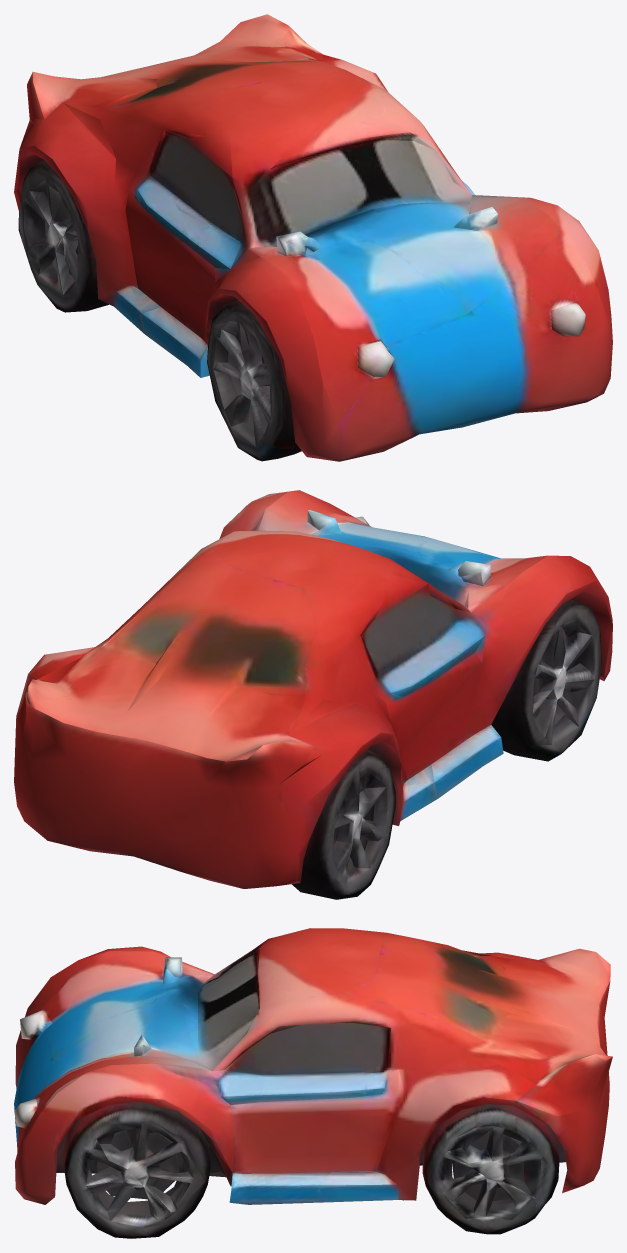
The model's file is m2ToyRaceCar.glb.
3 views of the same model, one above another, from view 1: azimuth 30°, elevation 25°; view 2: azimuth 150°, elevation 25°; view 3: azimuth 270°, elevation 25° (orthographic). The views are drawn at different scales.
Parts seen in each view (by area): view 1: model; view 2: model; view 3: model.
Boxes of the visible parts, left/top/right/bottom form: model: left=14, top=14, right=612, bottom=461; model: left=14, top=490, right=612, bottom=899; model: left=14, top=928, right=612, bottom=1238.
Bounding box in the file's own units: 1.09 × 0.7762 × 1.91.
Materials: 1 (1 with a texture image).
